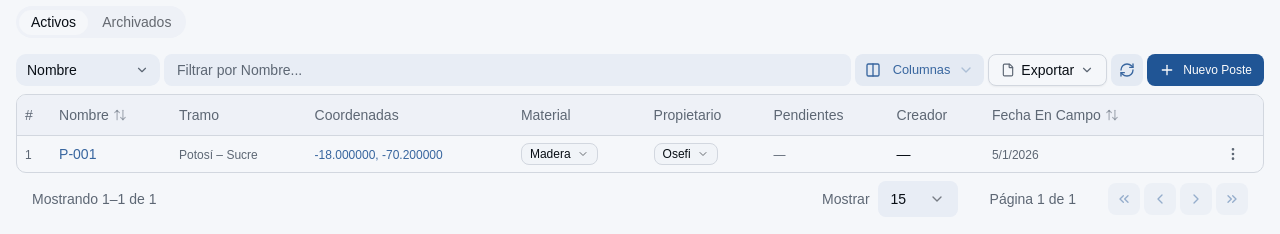
when the lists are refused › does not claim to still be loading once the answer is in
Click the button titled "Click para cambiar material": (559, 154) [521,142,598,164]
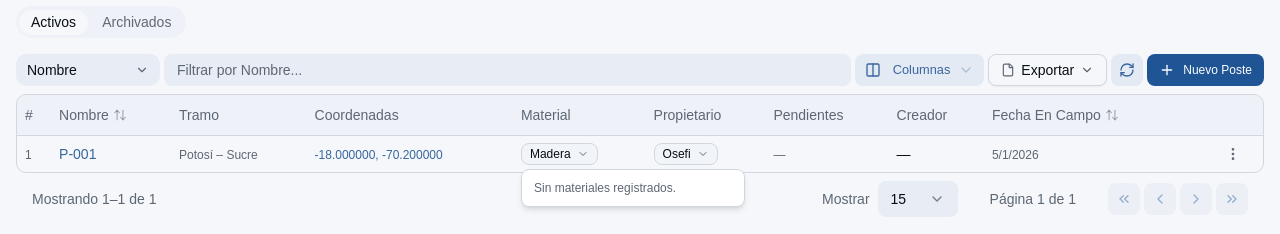
Expected: the text "Sin materiales registrados." is shown, [534,181,676,195]
